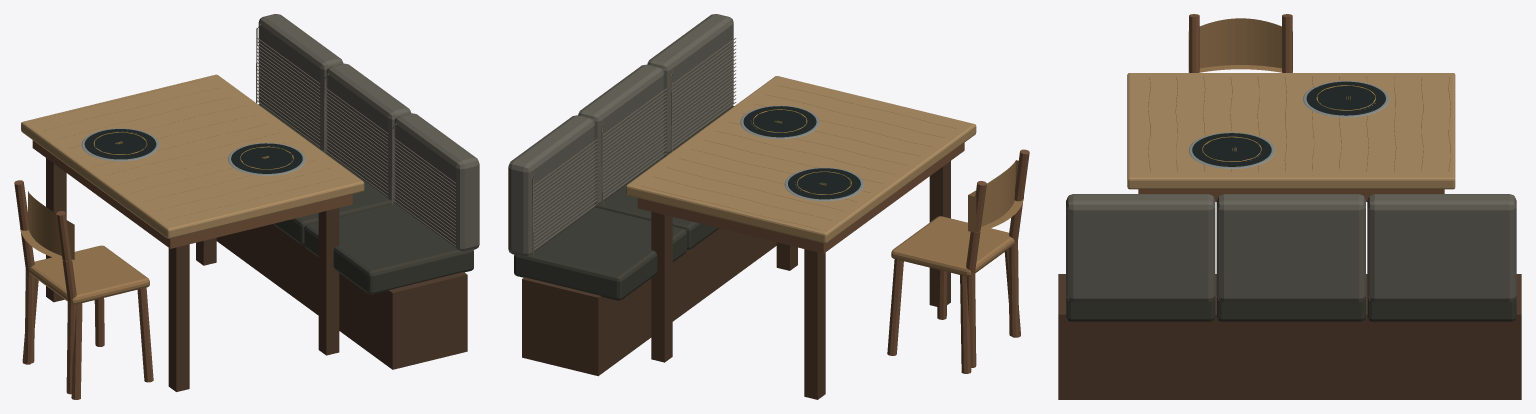
Rendered from table.glb.
3 views of the same model, side by side, from view 1: azimuth 30°, elevation 25°; view 2: azimuth 150°, elevation 25°; view 3: azimuth 270°, elevation 25° (orthographic). The views are drawn at different scales.
Visible parts, largest first — view 1: 실내 조명 베이크용 table; view 2: 실내 조명 베이크용 table; view 3: 실내 조명 베이크용 table.
Boxes of the visible parts, x1,y1,x2,y2 form: 실내 조명 베이크용 table: (14, 14, 479, 399); 실내 조명 베이크용 table: (508, 14, 1029, 399); 실내 조명 베이크용 table: (1058, 14, 1521, 399).
Size of the model in its own units: 1.67 by 0.8359 by 1.63.
